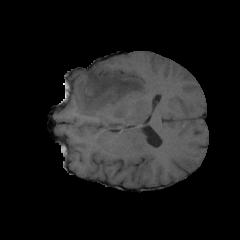glioma: (72, 63, 158, 124)
